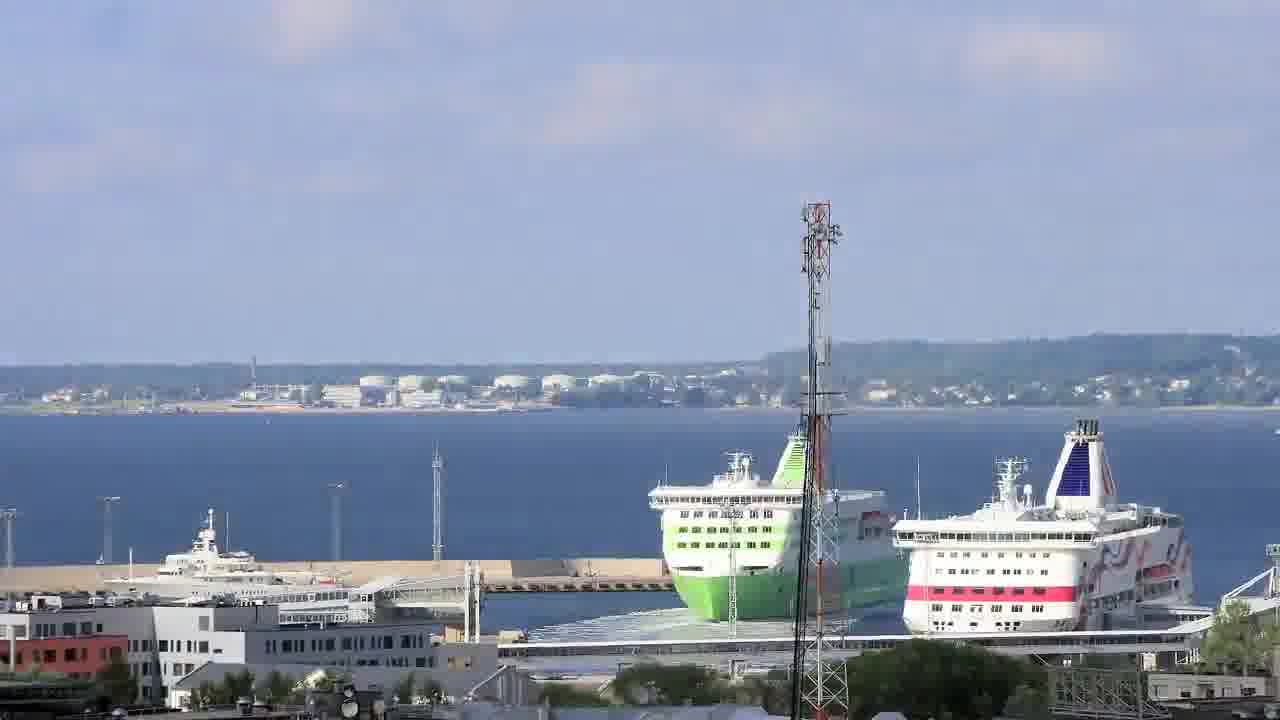type-3: (868, 415, 1225, 638), (622, 427, 862, 670), (84, 511, 353, 609)
